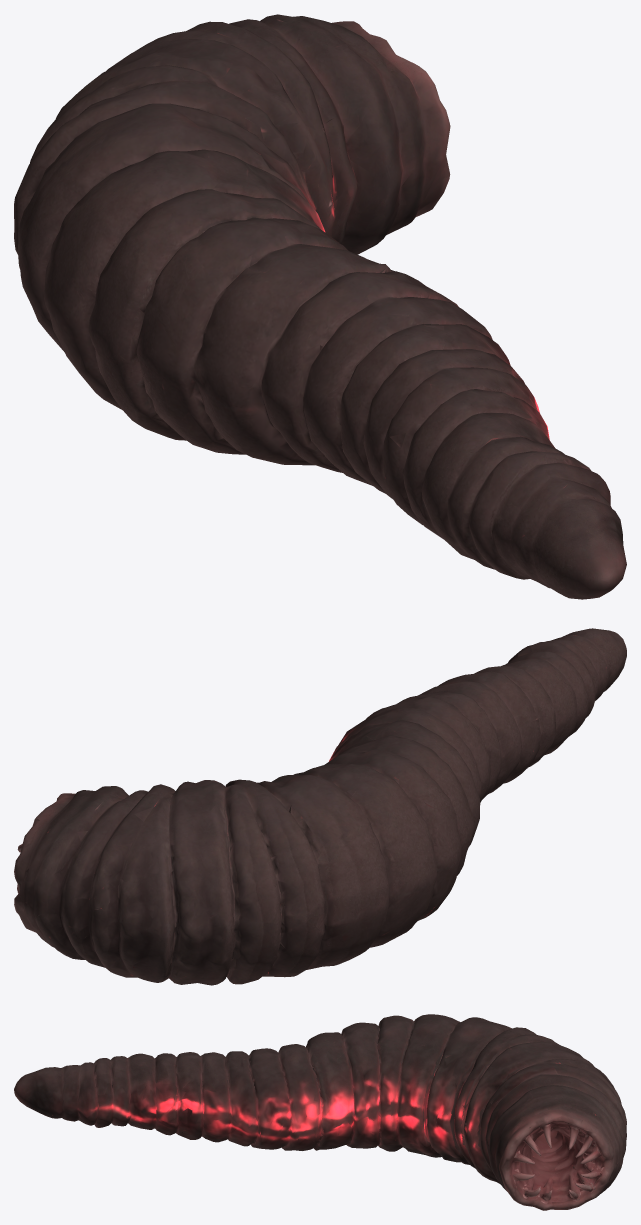
Rendered from vorax.glb.
The picture shows the model from 3 angles, top to bottom: view 1: azimuth 30°, elevation 25°; view 2: azimuth 150°, elevation 25°; view 3: azimuth 270°, elevation 25°; orthographic projection. The views are drawn at different scales.
Parts seen in each view (by area): view 1: vorax; view 2: vorax; view 3: vorax.
Part boxes in pixels (bbox=[...]): vorax: bbox=[14, 14, 626, 599]; vorax: bbox=[14, 628, 626, 985]; vorax: bbox=[14, 1014, 626, 1210].
Size of the model in its own units: 0.8589 by 0.4762 by 1.9.
Materials: 1 (1 with a texture image).
